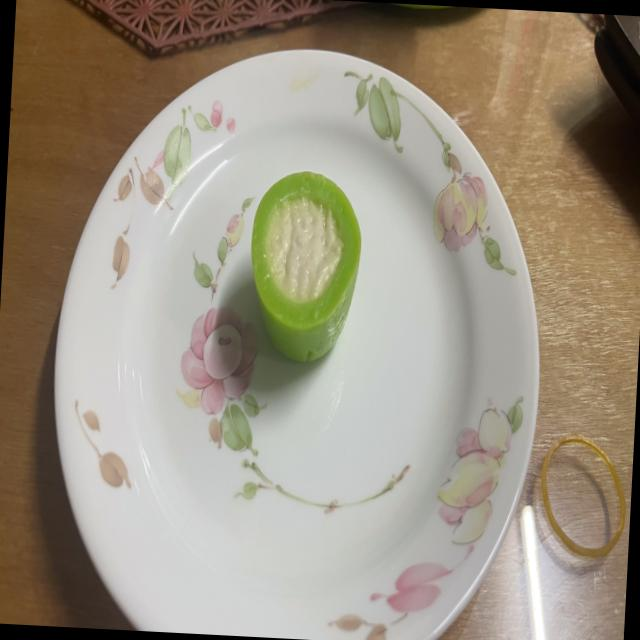nona-manis: (251, 172, 361, 362)
